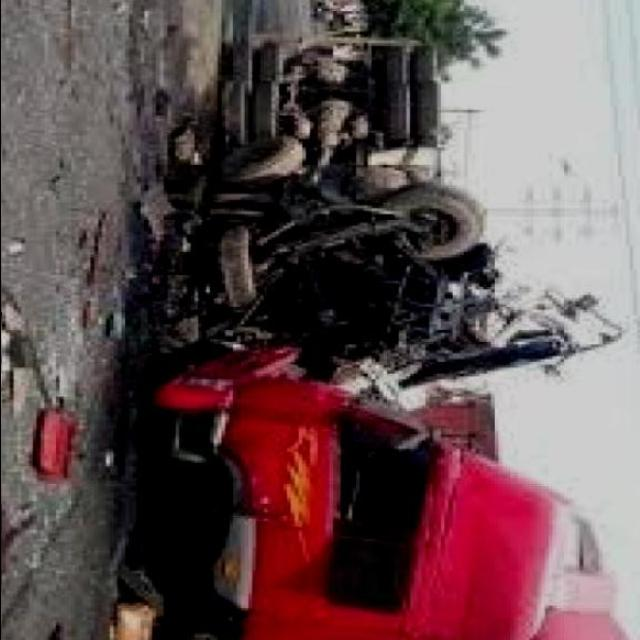accident: (176, 56, 508, 564)
